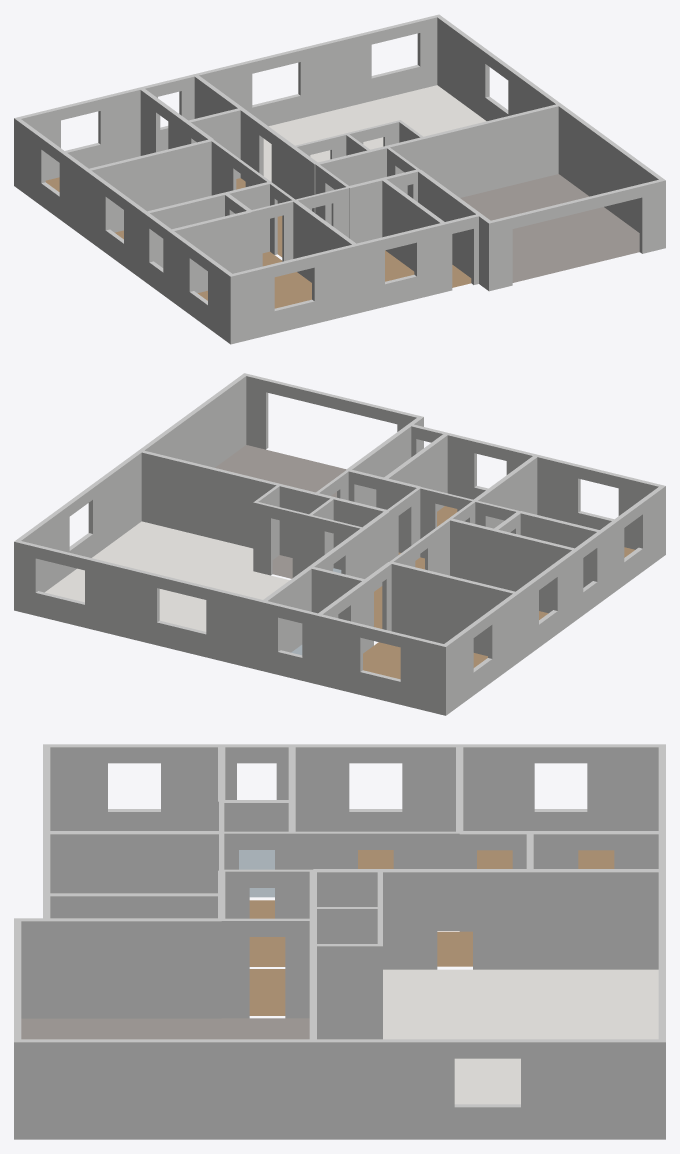
The model's file is sunrise-view-residence-3d.glb.
3 renders of one model, top to bottom at view 1: azimuth 30°, elevation 25°; view 2: azimuth 150°, elevation 25°; view 3: azimuth 270°, elevation 25°, orthographic. The views are drawn at different scales.
Parts seen in each view (by area): view 1: walls, floors; view 2: walls, floors; view 3: walls, floors.
Boxes of the visible parts, x1=… form: walls: x1=14, y1=14, x2=665, y2=344; floors: x1=45, y1=85, x2=639, y2=308; walls: x1=14, y1=373, x2=665, y2=715; floors: x1=45, y1=445, x2=634, y2=679; walls: x1=14, y1=744, x2=665, y2=1139; floors: x1=21, y1=850, x2=658, y2=1104.
Size of the model in its own units: 16.01 by 2.44 by 14.79.
